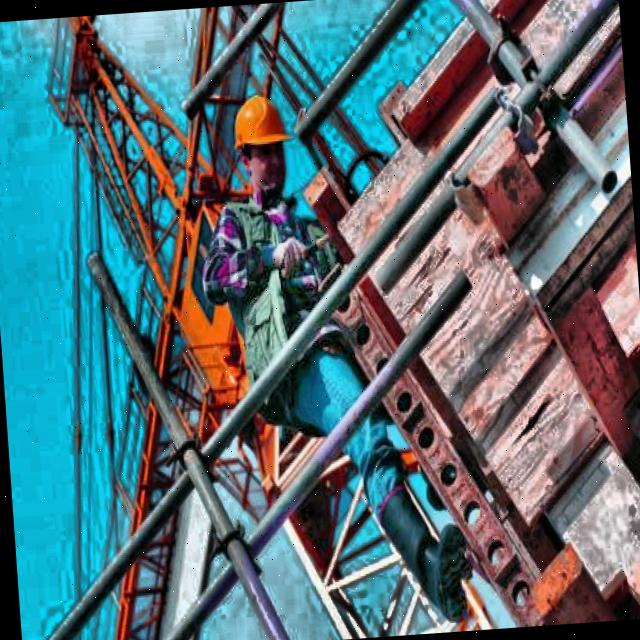helmet: (224, 94, 304, 198)
